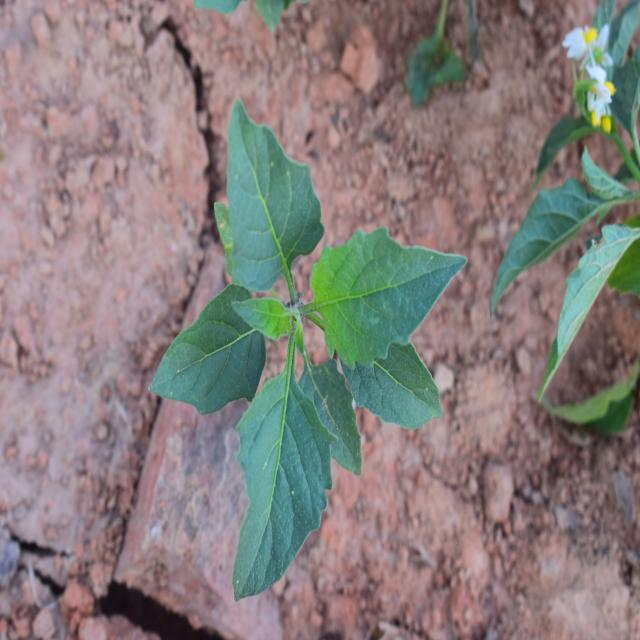Black_nightshade: (158, 138, 450, 565)
